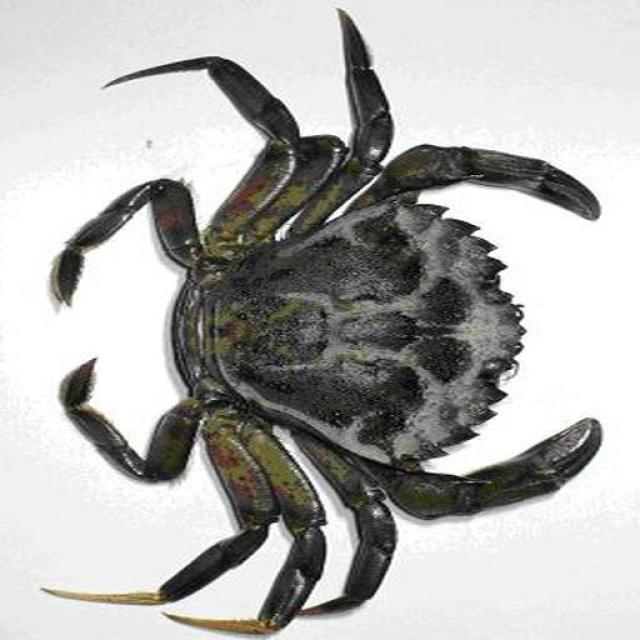European Green crab: (44, 10, 600, 632)
